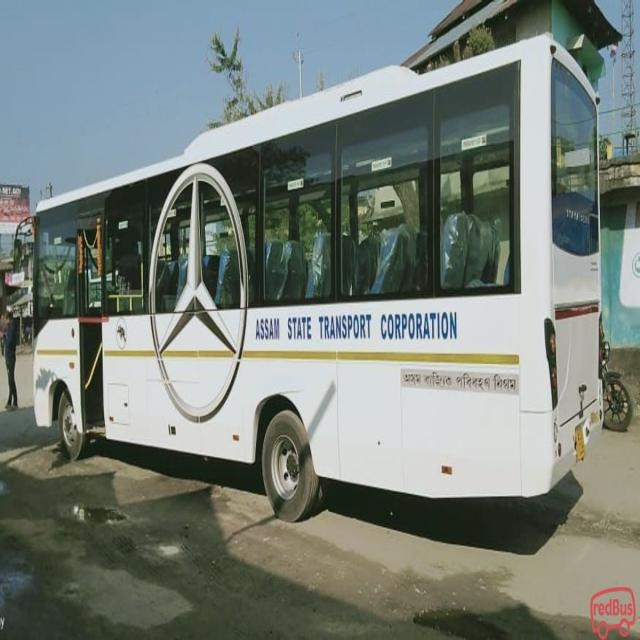Bike: (595, 316, 635, 440)
Bus: (28, 24, 614, 532)
